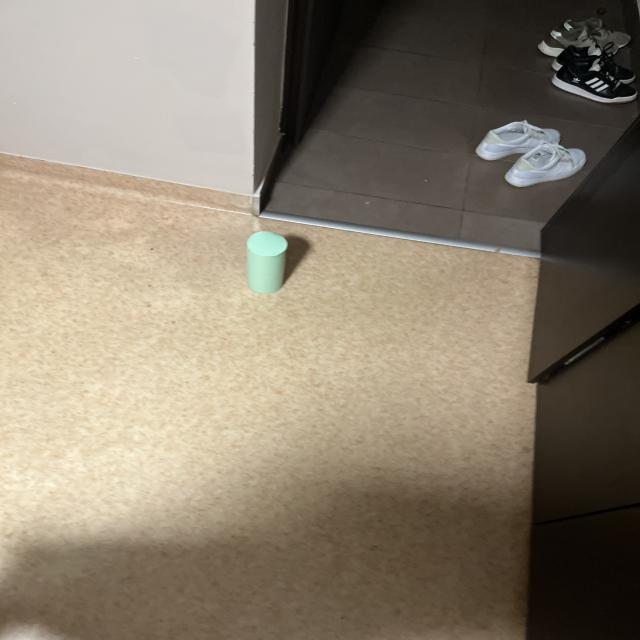meta: (246, 231, 287, 294)
